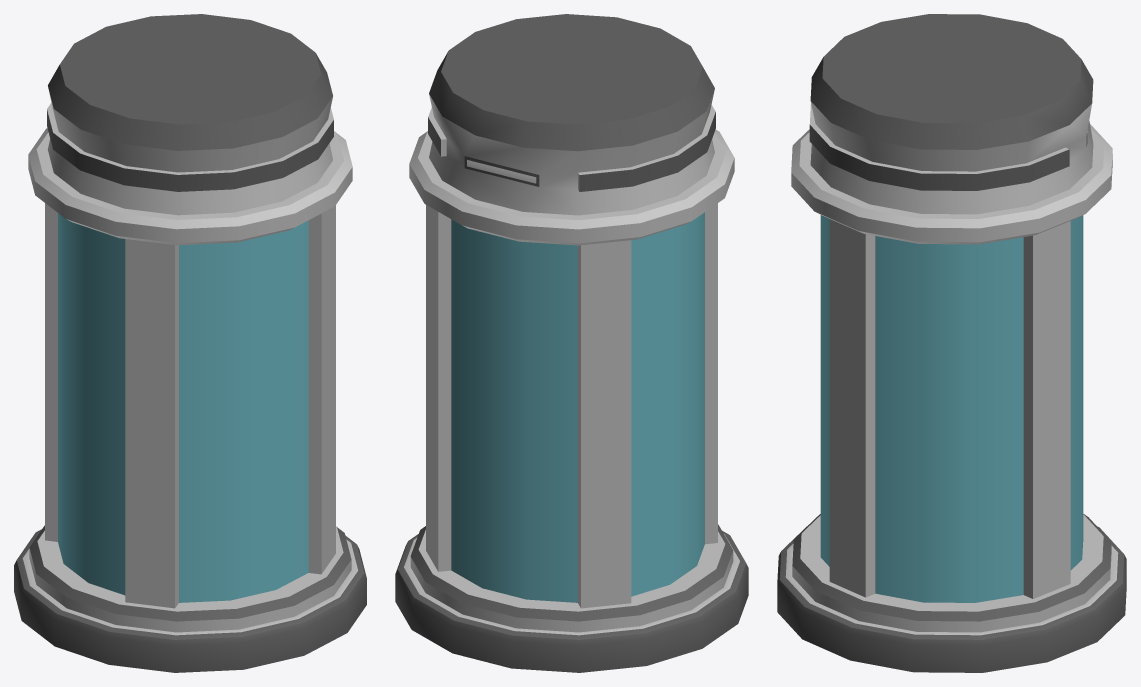
Rendered from MS_Crio.fbx.
3 renders of one model, left to right at view 1: azimuth 30°, elevation 25°; view 2: azimuth 150°, elevation 25°; view 3: azimuth 270°, elevation 25°, orthographic.
Parts seen in each view (by area): view 1: MS_Crio; view 2: MS_Crio; view 3: MS_Crio.
Part boxes in pixels (bbox=[...]): MS_Crio: bbox=[14, 14, 366, 672]; MS_Crio: bbox=[395, 14, 748, 672]; MS_Crio: bbox=[777, 14, 1126, 672].
Size of the model in its own units: 2.72 by 4.55 by 2.72.
